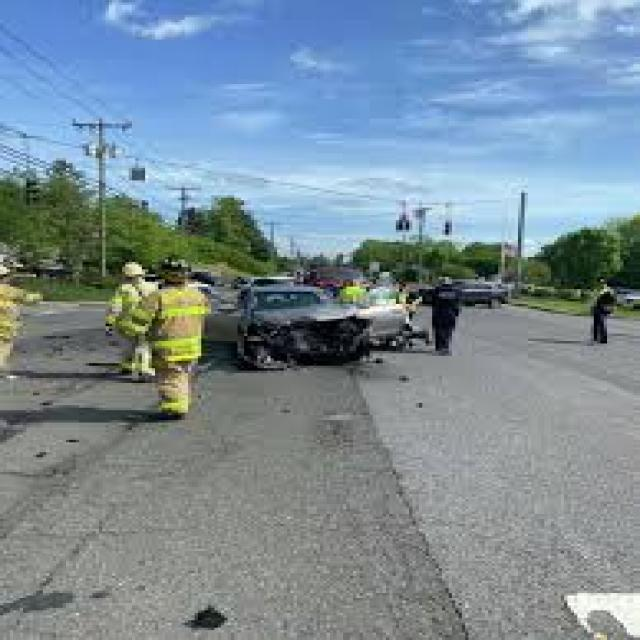accident: (190, 282, 415, 383)
